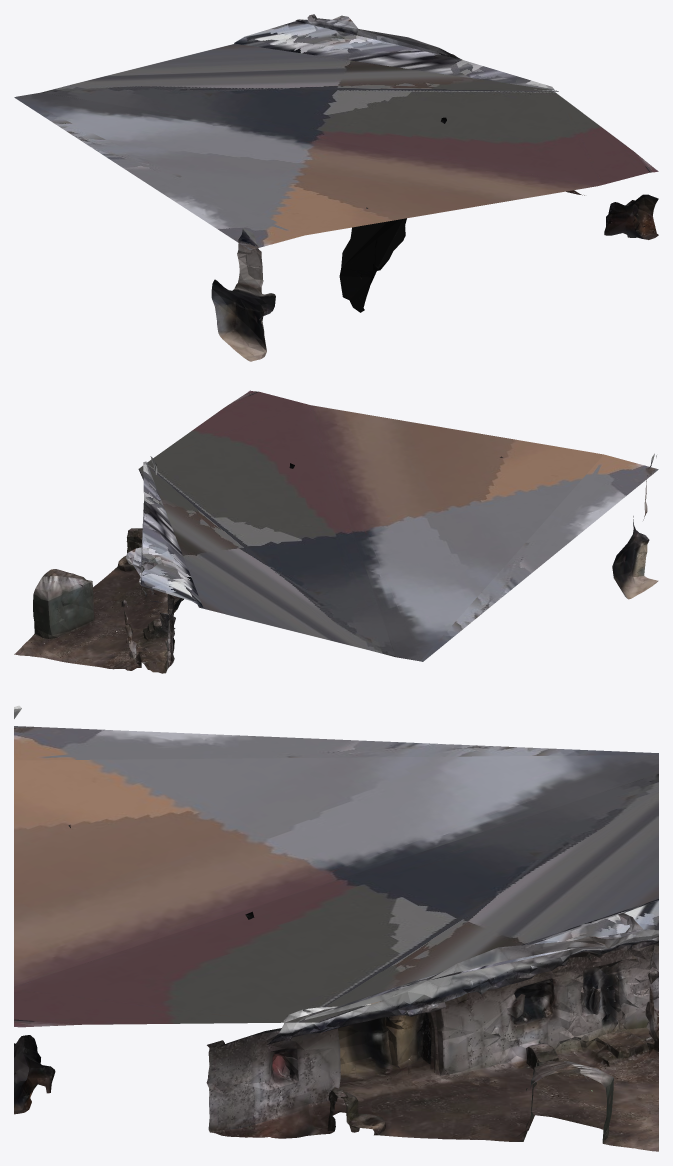
3 renders of one model, top to bottom at view 1: azimuth 30°, elevation 25°; view 2: azimuth 150°, elevation 25°; view 3: azimuth 270°, elevation 25°, orthographic. The views are drawn at different scales.
Bounding box in the file's own units: 20.89 × 6.32 × 20.89.
3 materials, 3 textured.
